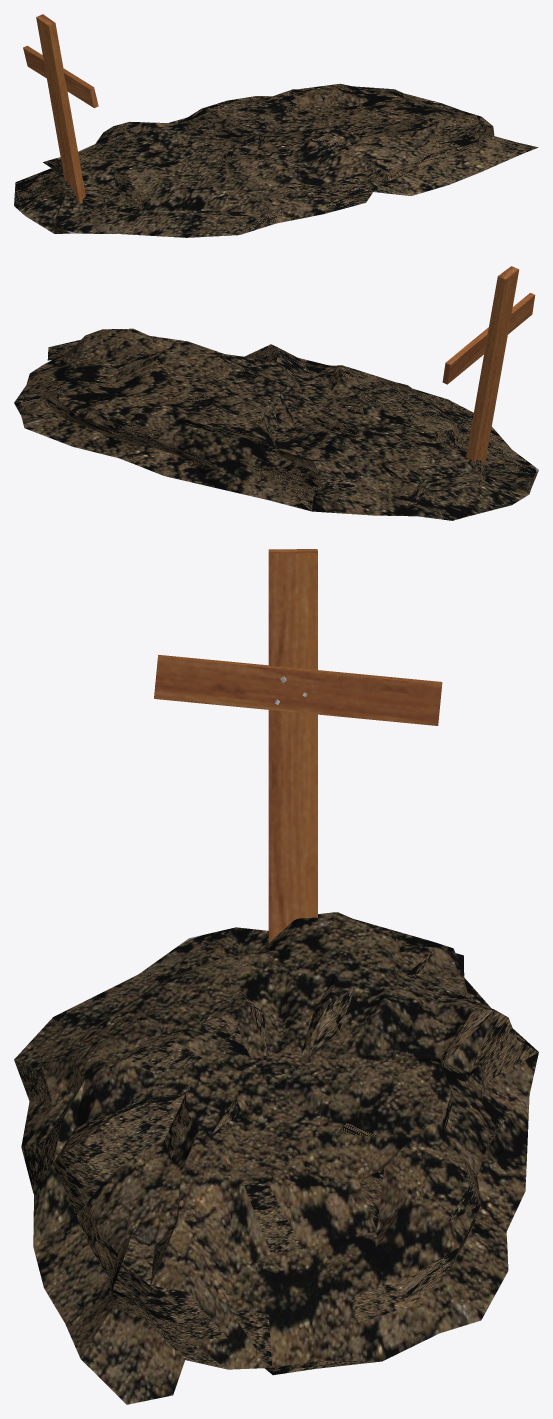
Rendered from fresh_grave.FBX.
The picture shows the model from 3 angles, top to bottom: view 1: azimuth 30°, elevation 25°; view 2: azimuth 150°, elevation 25°; view 3: azimuth 270°, elevation 25°; orthographic projection. The views are drawn at different scales.
Visible parts, largest first — view 1: Sphere001, Box001; view 2: Sphere001, Box001; view 3: Sphere001, Box001.
Part boxes in pixels (x1,y1,x2,y2): Sphere001: (14, 83, 538, 237); Box001: (23, 14, 98, 203); Sphere001: (14, 328, 538, 520); Box001: (442, 266, 535, 467); Sphere001: (14, 912, 538, 1404); Box001: (154, 549, 442, 942).
Size of the model in its own units: 66.24 by 32.01 by 27.99.
